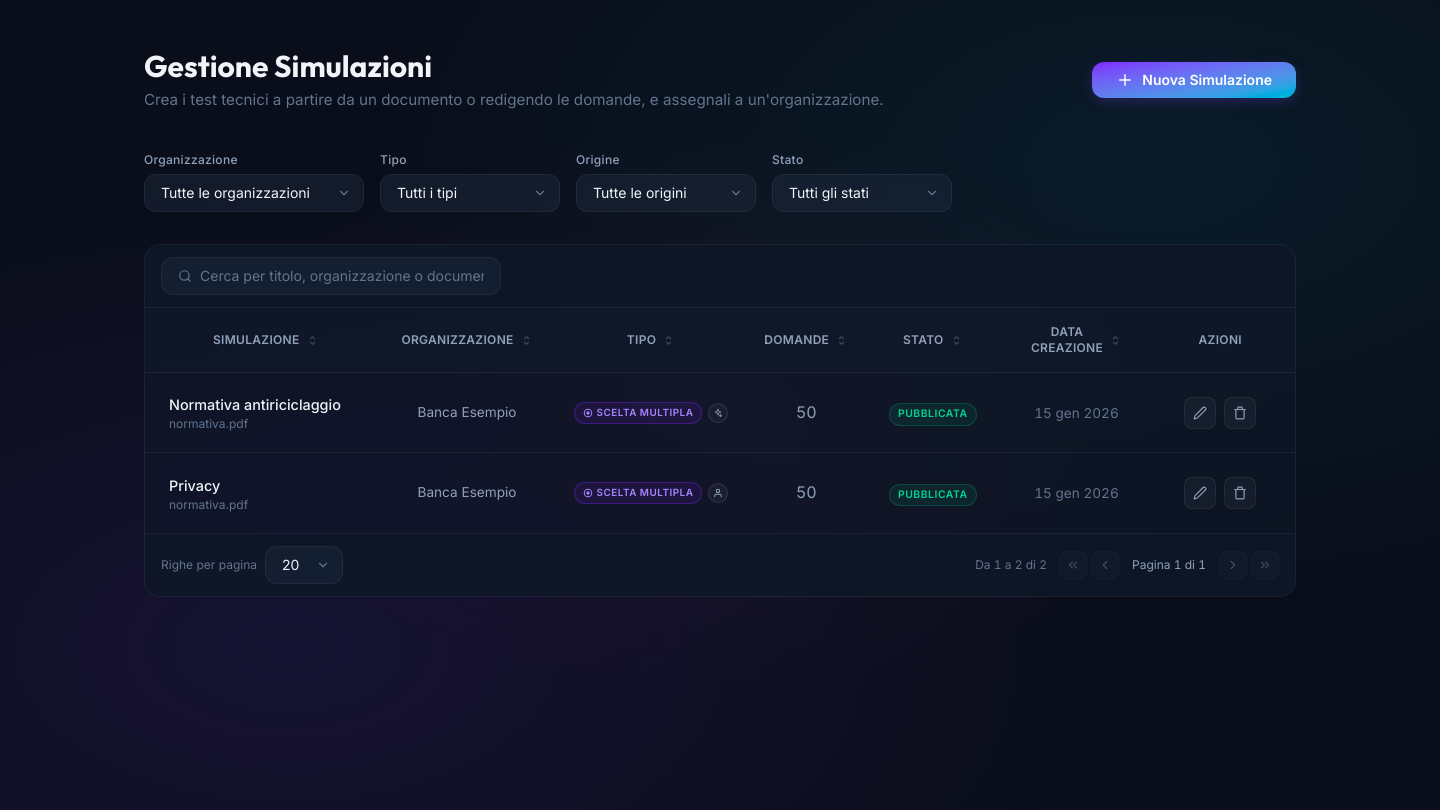
Test: elenco › restringe a chi ha scritto le domande
This screenshot has width=1440, height=810.
Click the dropdown named "Origine".
click(666, 193)  # box [576,174,756,212]
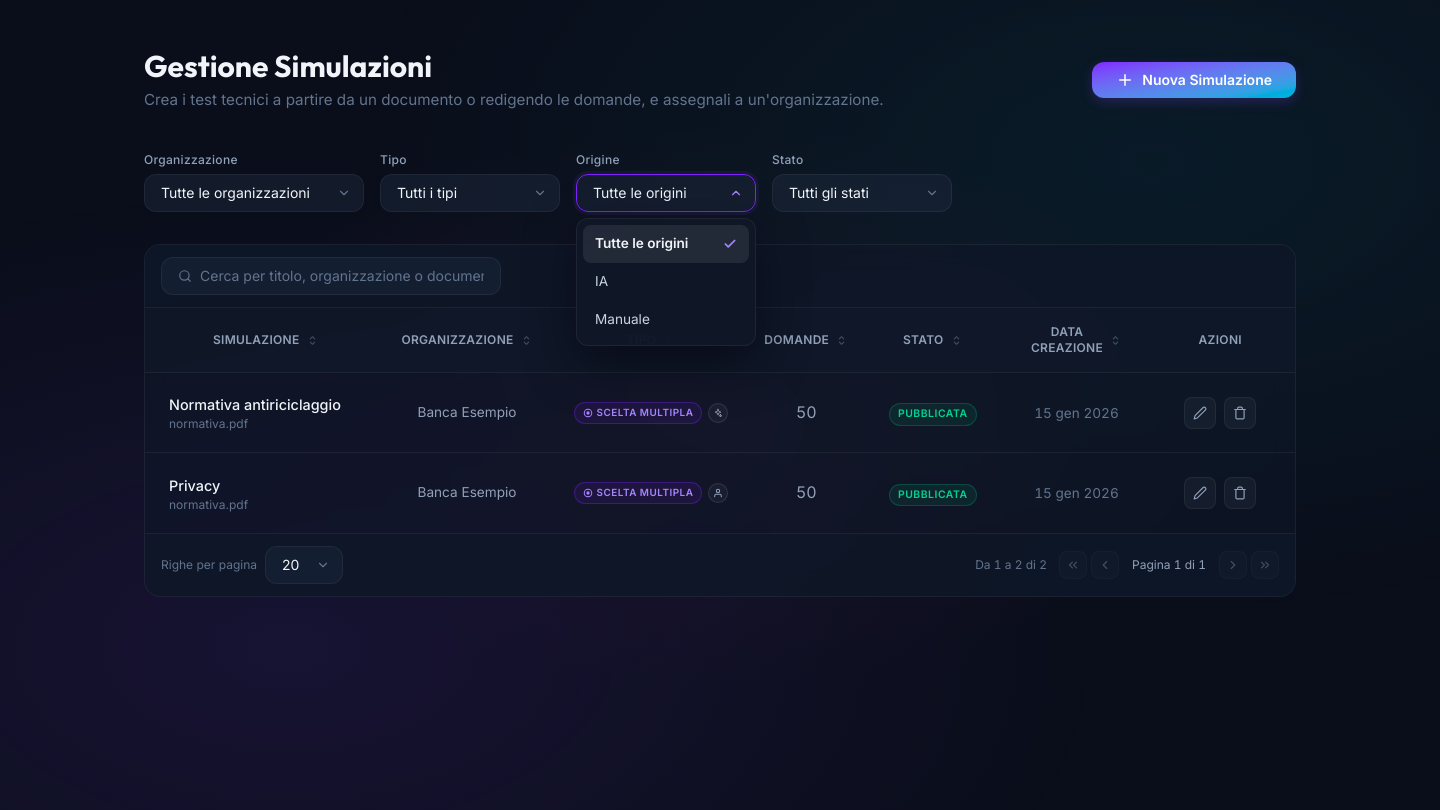
Click the option "Manuale".
click(622, 319)  # box [595,311,650,327]
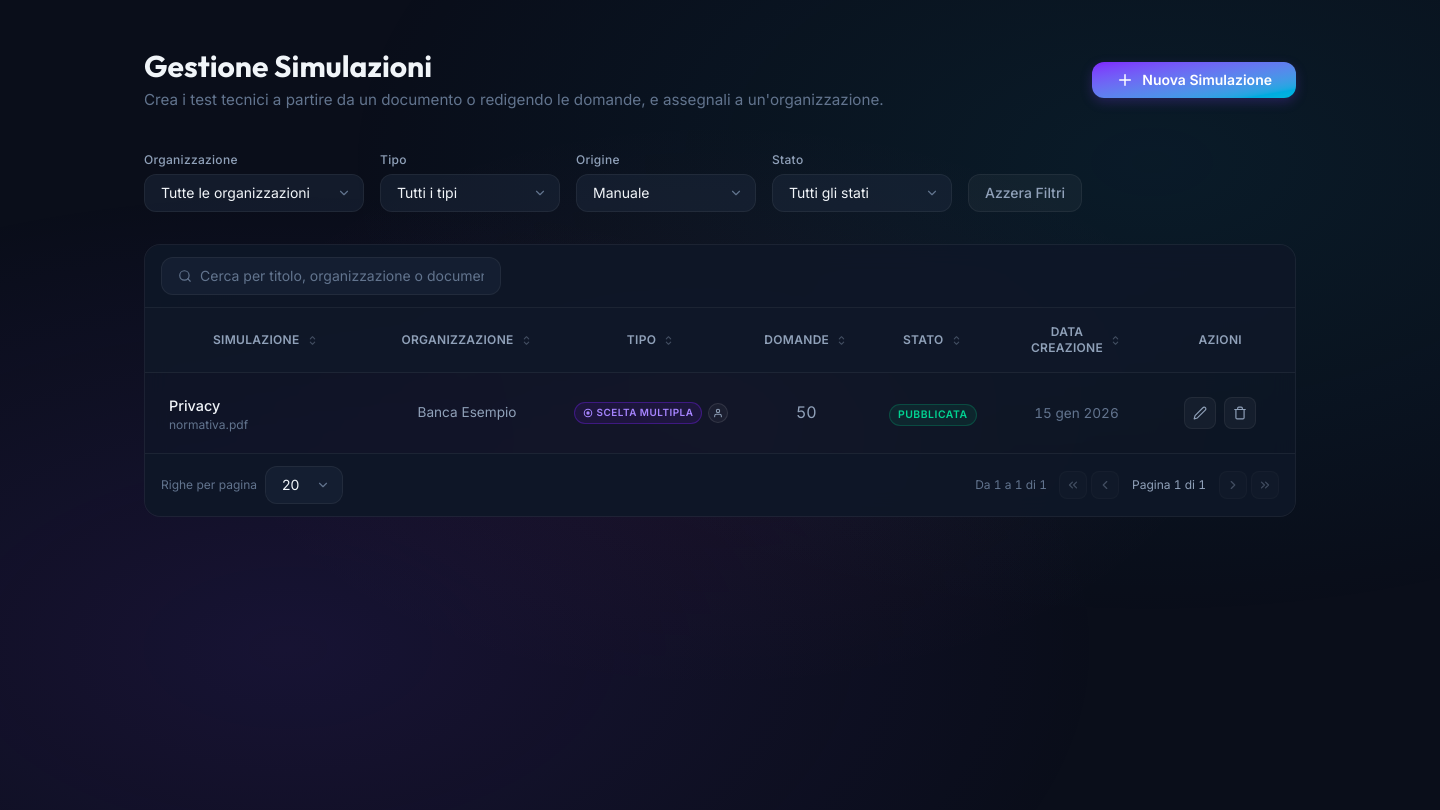
expect the text "Privacy" is shown: met, box [169,396,220,414]
expect the text "Normativa antiriciclaggio" is gone: met
